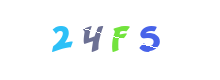2: (22, 0, 102, 80)
4: (70, 0, 150, 80)
F: (78, 0, 158, 80)
S: (83, 0, 163, 80)
